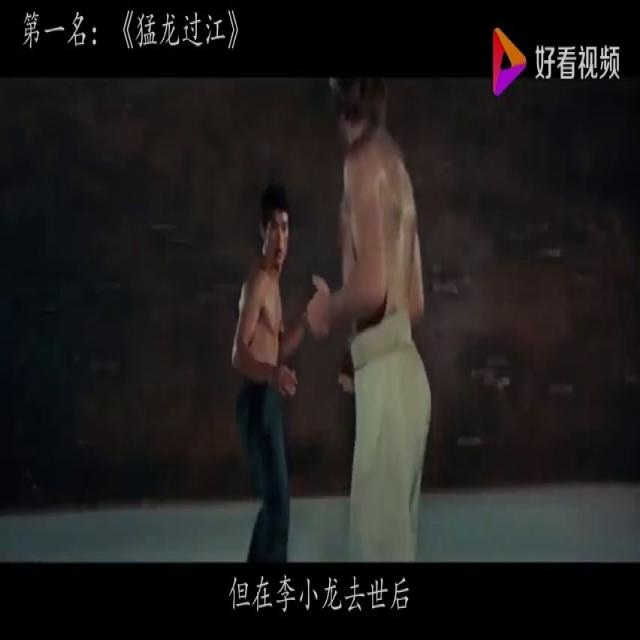fight: (204, 74, 458, 574)
